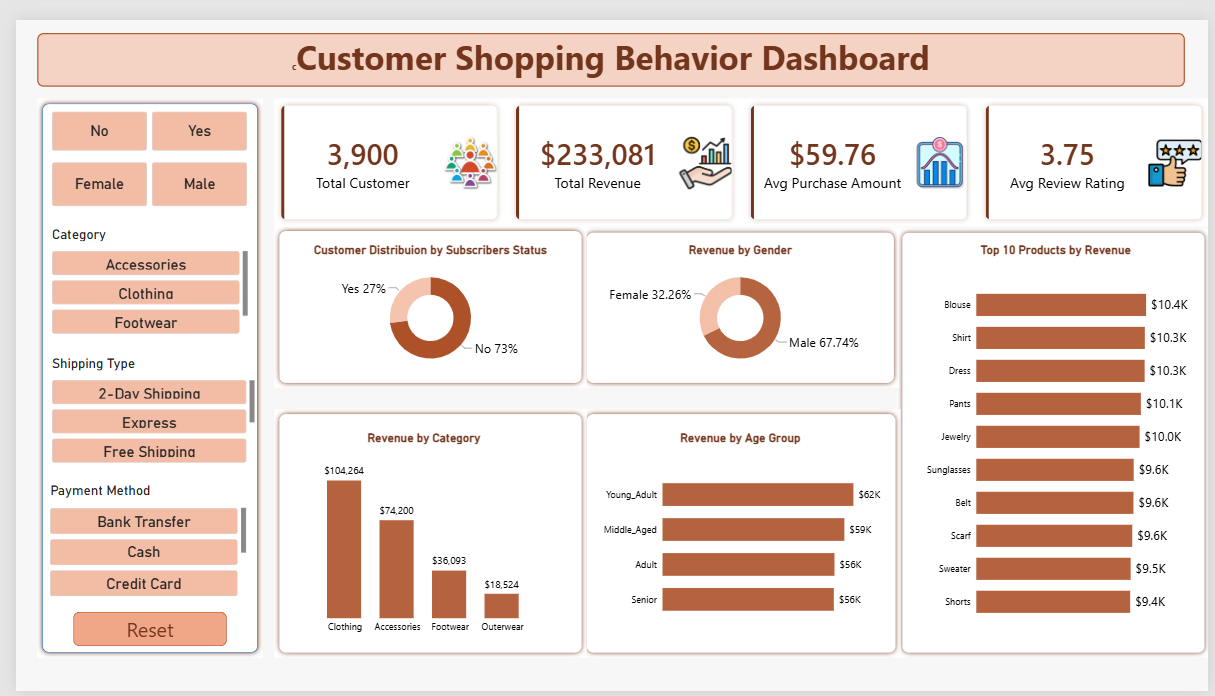

The dashboard page shown, as its layout file describes it:
{"tool":"powerbi","page":{"name":"Page 1","canvas":[1920,1080],"ordinal":0},"visuals":[{"type":"shape","box":[1418.4,334.2,502.6,692.1],"z":0},{"type":"shape","box":[910.5,626.3,513.2,400],"z":1000},{"type":"shape","box":[910.5,334.2,510.5,257.9],"z":2000},{"type":"shape","box":[415.8,626.3,502.6,400],"z":3000},{"type":"shape","box":[415.8,331.6,502.6,260.5],"z":4000},{"type":"donutChart","title":"Customer Distribuion by Subscribers Status","fields":{"Category":["public customer.subscription_status"],"Y":["public customer.Total Customer"]},"box":[426.3,344.7,481.6,234.2],"z":5000},{"type":"cardVisual","fields":{"Data":["public customer.Total Customer","public customer.Total Revenue","public customer.Avg Purchase Amount","public customer.Avg Review Rating"]},"box":[415.4,125.4,1504.9,206.4],"z":6000},{"type":"textbox","box":[34,20.9,1847.1,86.2],"z":7000},{"type":"clusteredColumnChart","title":"Revenue by Category","fields":{"Category":["public customer.category"],"Y":["public customer.Total Revenue"]},"box":[426.3,647.4,460.5,360.5],"z":8000},{"type":"clusteredBarChart","title":"Revenue by Age Group","fields":{"Category":["public customer.age_group"],"Y":["public customer.Total Revenue"]},"box":[923.7,647.4,484.2,360.5],"z":9000},{"type":"donutChart","title":"Revenue by Gender","fields":{"Category":["public customer.gender"],"Y":["public customer.Total Revenue"]},"box":[923.7,344.7,484.2,234.2],"z":10000},{"type":"clusteredBarChart","title":"Top  10 Products by Revenue","fields":{"Category":["public customer.item_purchased"],"Y":["public customer.Total Revenue"]},"box":[1444.7,344.7,457.9,663.2],"z":11000},{"type":"shape","box":[34.2,126.3,363.2,900],"z":12000},{"type":"advancedSlicerVisual","fields":{"Values":["public customer.subscription_status"]},"box":[57.9,147.4,315.8,63.2],"z":13000},{"type":"advancedSlicerVisual","fields":{"Values":["public customer.gender"]},"box":[57.9,228.9,315.8,71.1],"z":14000},{"type":"advancedSlicerVisual","title":"Category","fields":{"Values":["public customer.category"]},"box":[57.9,331.6,315.8,173.7],"z":15000},{"type":"advancedSlicerVisual","title":"Payment Method","fields":{"Values":["public customer.payment_method"]},"box":[55.3,744.7,315.8,184.2],"z":16000},{"type":"advancedSlicerVisual","title":"Shipping Type","fields":{"Values":["public customer.shipping_type"]},"box":[57.9,539.5,326.3,173.7],"z":17000},{"type":"actionButton","box":[92.1,952.6,247.4,55.3],"z":18000}]}

Visuals, with their boxes in screenshot pixels (x1, y1, x2, y2), scaled from the page's 1920x1080 canvas onto the 1215x696 screenshot:
shape: <bbox>898, 215, 1214, 661</bbox>
shape: <bbox>576, 404, 901, 661</bbox>
shape: <bbox>576, 215, 899, 382</bbox>
shape: <bbox>263, 404, 581, 661</bbox>
shape: <bbox>263, 214, 581, 382</bbox>
"Customer Distribuion by Subscribers Status" donutChart: <bbox>270, 222, 575, 373</bbox>
cardVisual - public customer.Total Customer x public customer.Total Revenue: <bbox>263, 81, 1214, 214</bbox>
textbox: <bbox>22, 13, 1190, 69</bbox>
"Revenue by Category" clusteredColumnChart: <bbox>270, 417, 561, 650</bbox>
"Revenue by Age Group" clusteredBarChart: <bbox>585, 417, 891, 650</bbox>
"Revenue by Gender" donutChart: <bbox>585, 222, 891, 373</bbox>
"Top  10 Products by Revenue" clusteredBarChart: <bbox>914, 222, 1204, 650</bbox>
shape: <bbox>22, 81, 251, 661</bbox>
advancedSlicerVisual - public customer.subscription_status: <bbox>37, 95, 236, 136</bbox>
advancedSlicerVisual - public customer.gender: <bbox>37, 148, 236, 193</bbox>
"Category" advancedSlicerVisual: <bbox>37, 214, 236, 326</bbox>
"Payment Method" advancedSlicerVisual: <bbox>35, 480, 235, 599</bbox>
"Shipping Type" advancedSlicerVisual: <bbox>37, 348, 243, 460</bbox>
actionButton: <bbox>58, 614, 215, 650</bbox>
